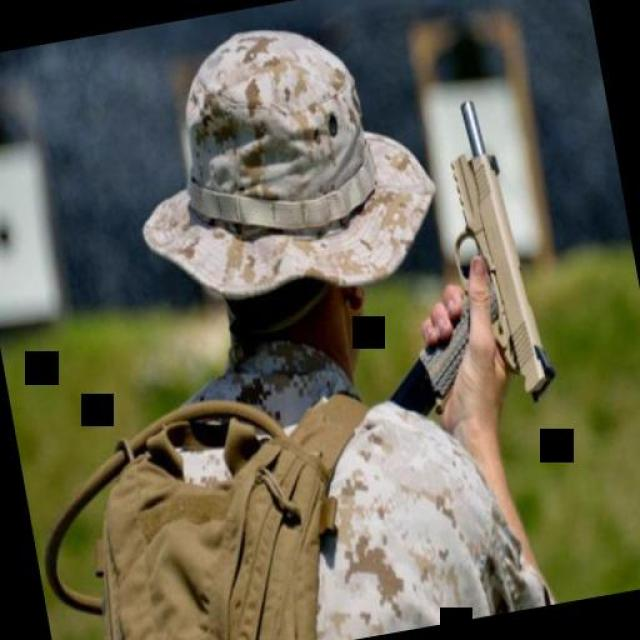gun: (376, 80, 550, 411)
